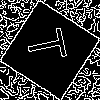T: (25, 25, 76, 64)
